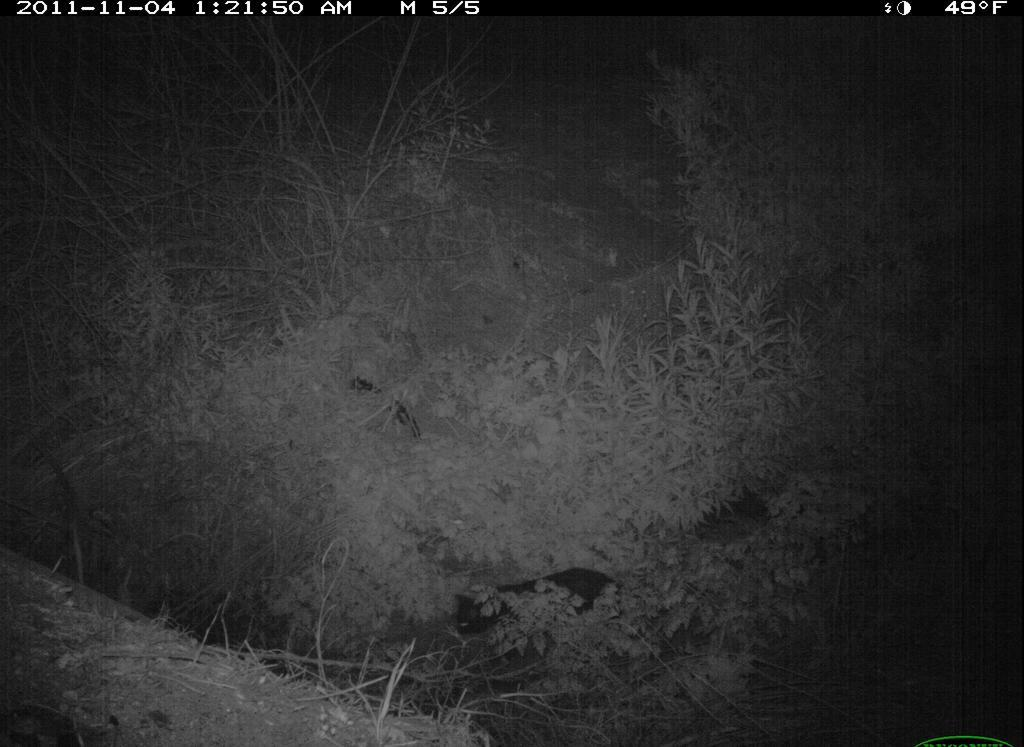cat: (445, 560, 626, 654)
